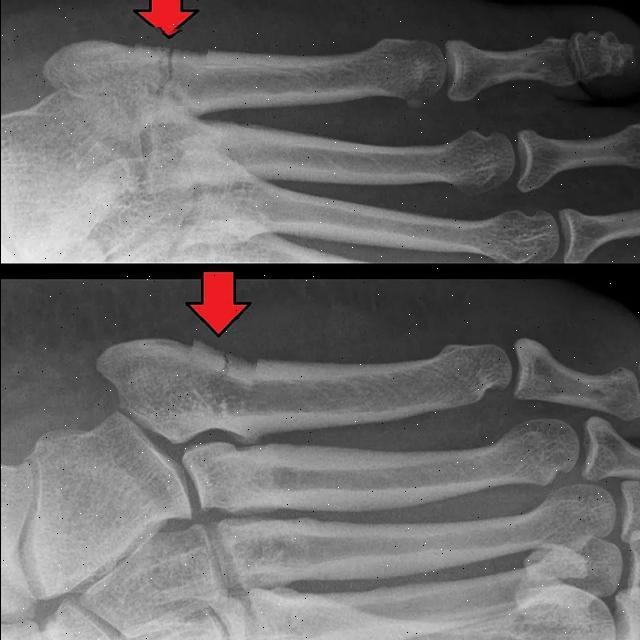bone: (130, 26, 207, 106), (186, 341, 257, 396)
